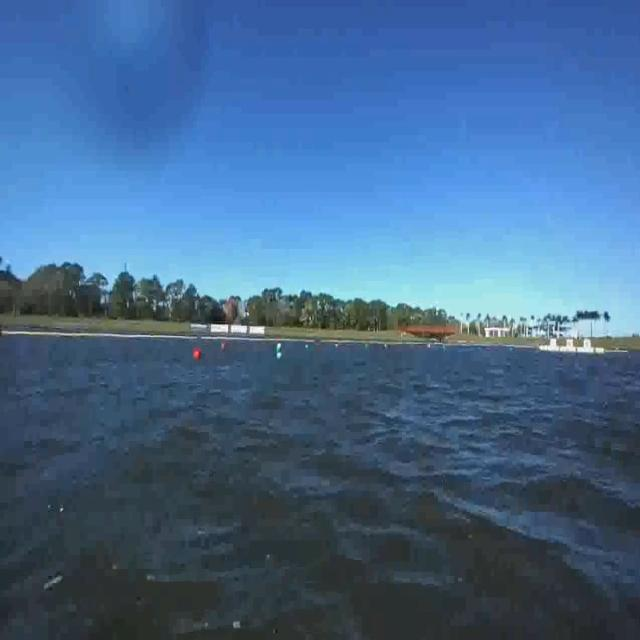red-buoy: (192, 348, 200, 360)
